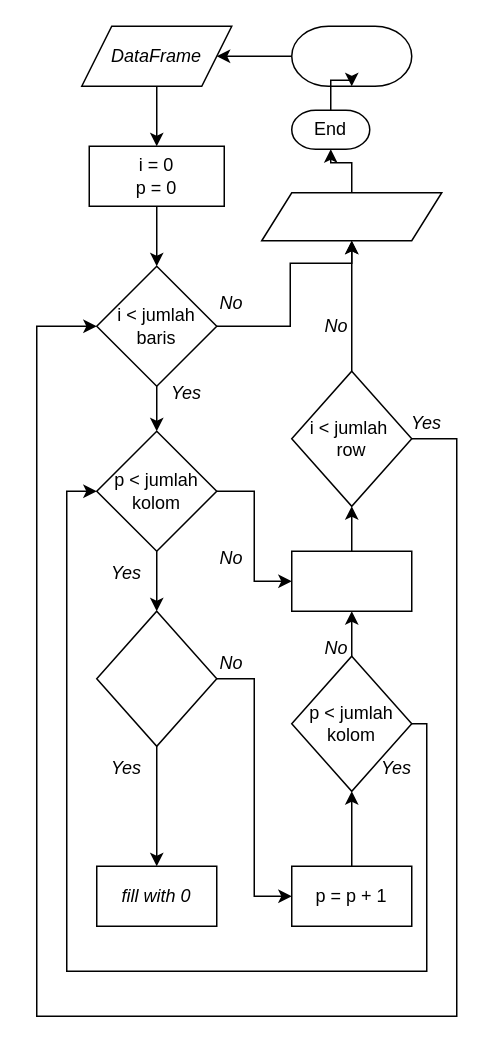
Some shapes in this 498 by 1055 pixel diagram are drawn without their labels. Each missing label, with the box of its shape:
cleaned_data: (260, 191, 442, 241)
i = i + 1: (290, 550, 412, 611)
is kolom[p] na: (95, 610, 217, 746)
Start: (290, 25, 412, 86)
